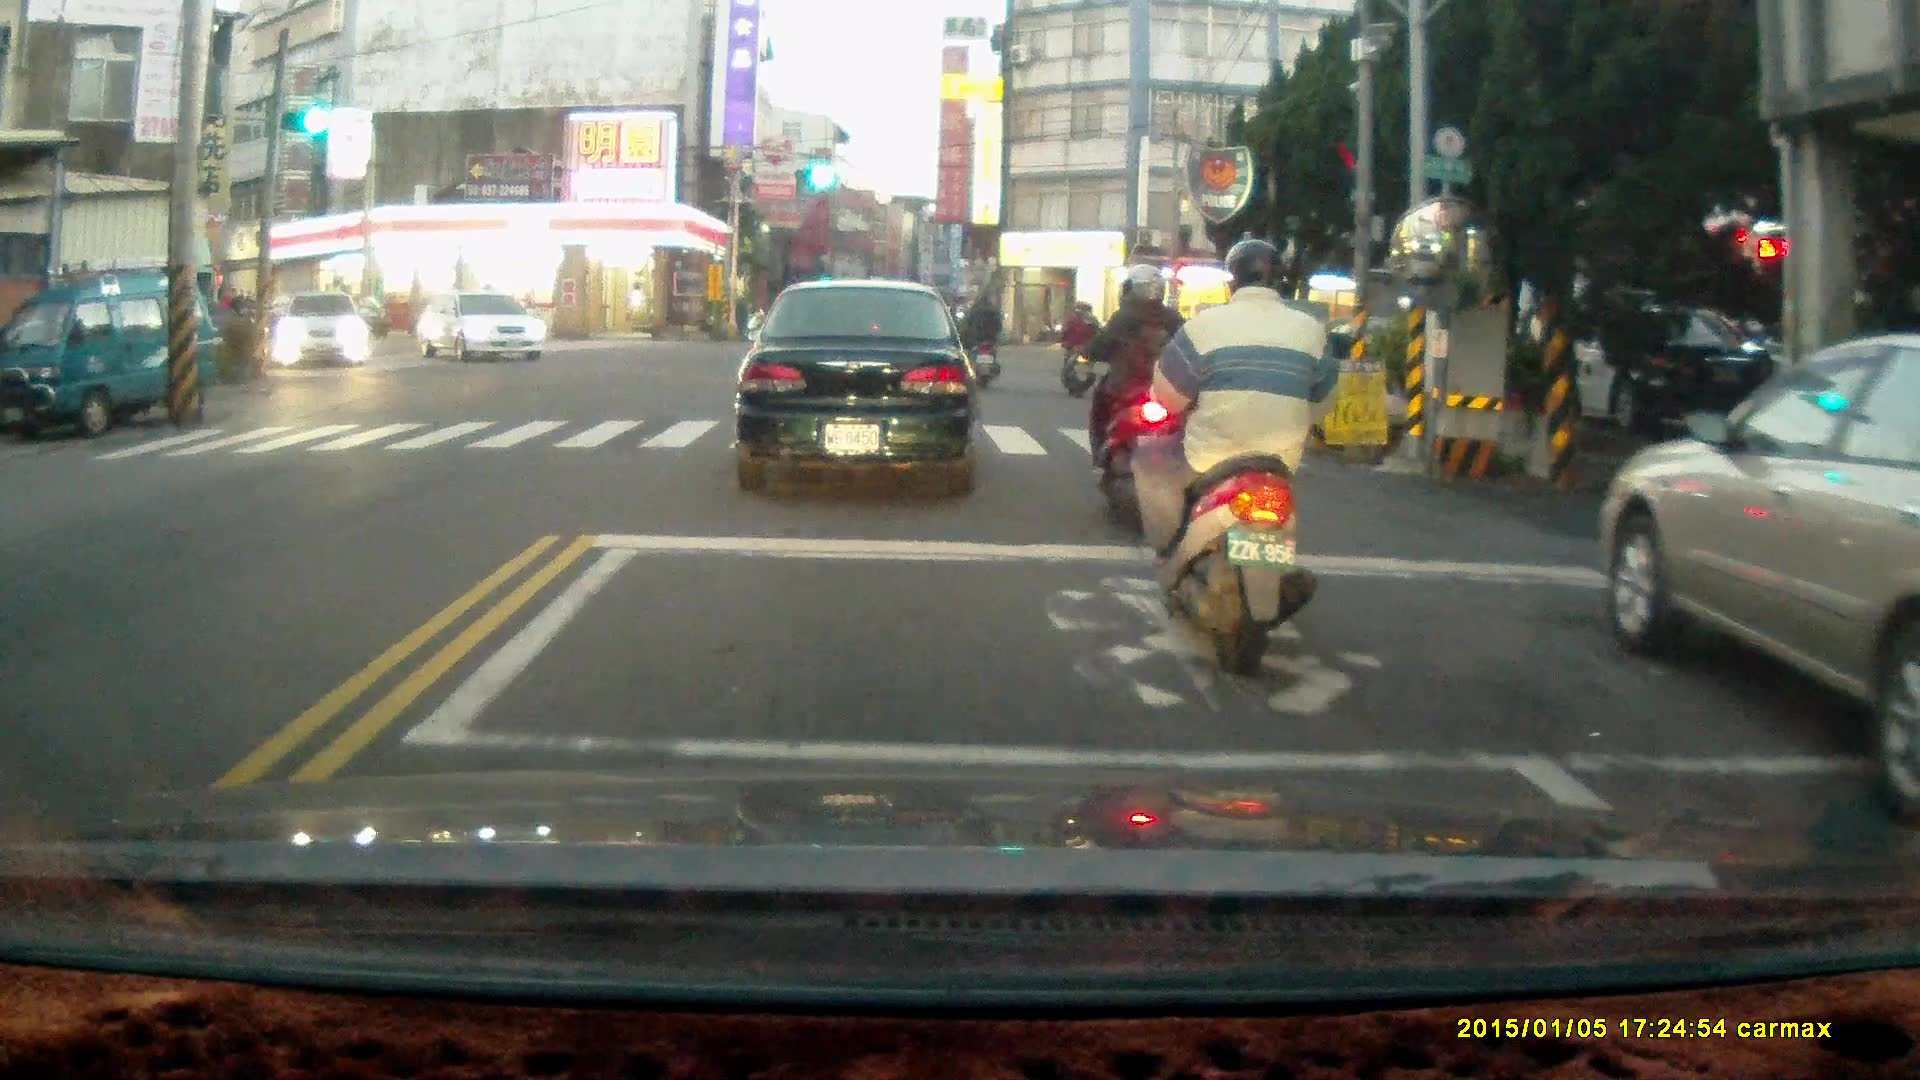rider: (1134, 238, 1342, 676), (1065, 256, 1201, 531), (953, 287, 1010, 388), (1053, 297, 1097, 397)
vehicle: (1598, 325, 1920, 814), (730, 277, 985, 500), (1455, 296, 1793, 445), (2, 271, 224, 441), (417, 292, 549, 365), (267, 295, 375, 372)
